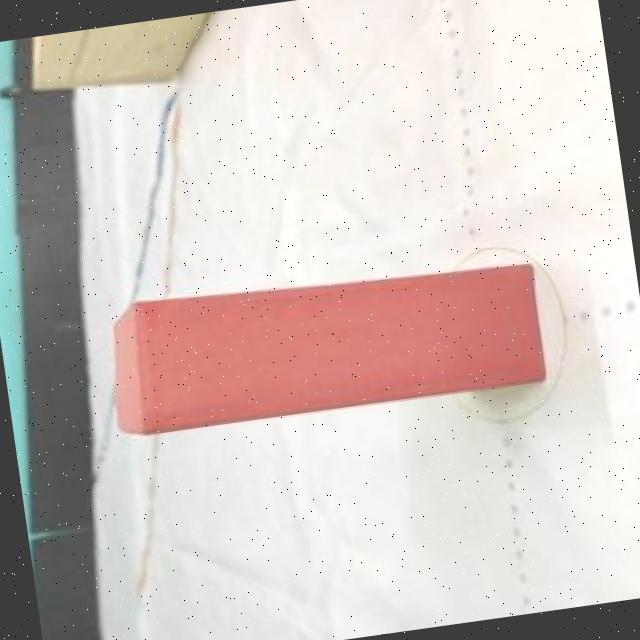redbox: (97, 249, 548, 443)
